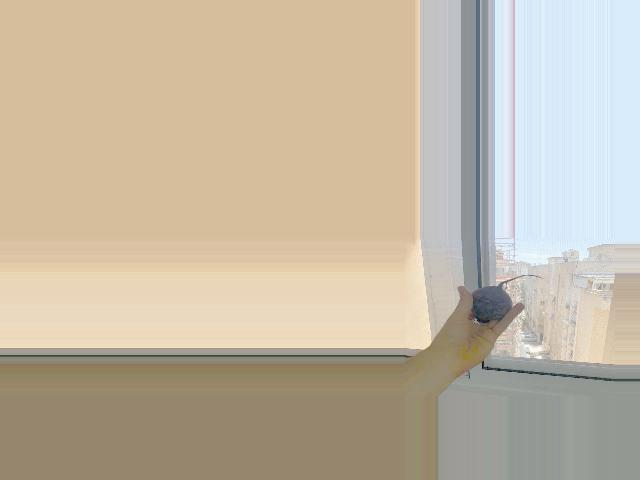beet: (472, 274, 544, 323)
